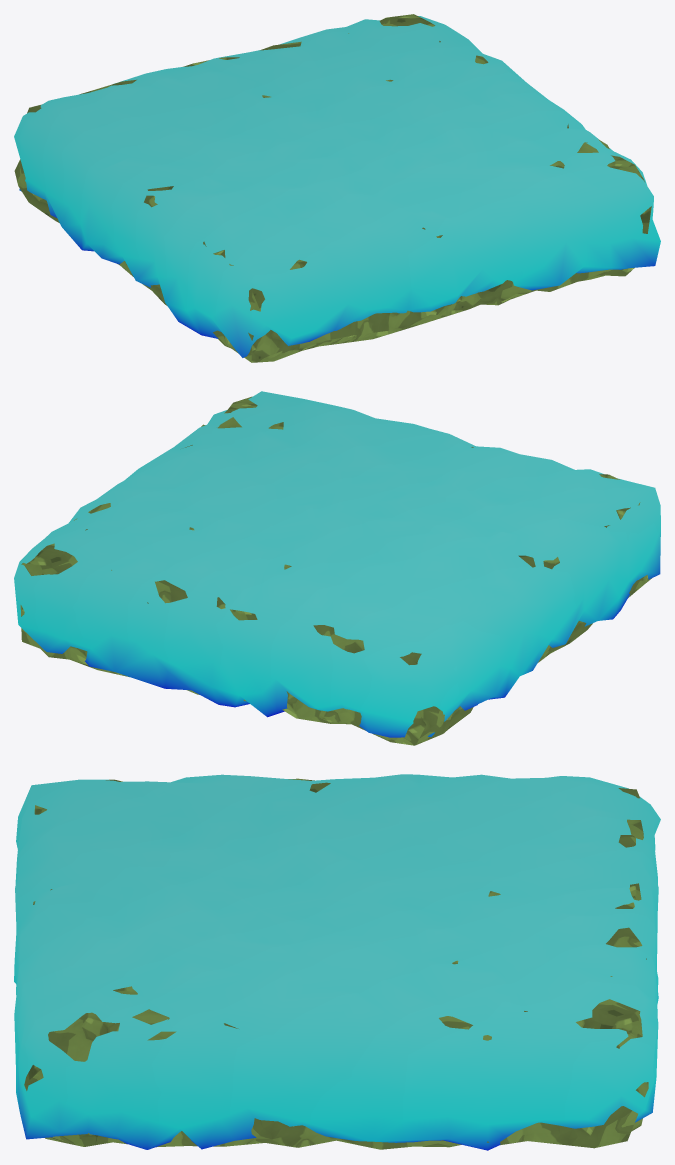
File: SM_Env_Hedge_03.fbx
The picture shows the model from 3 angles, top to bottom: view 1: azimuth 30°, elevation 25°; view 2: azimuth 150°, elevation 25°; view 3: azimuth 270°, elevation 25°; orthographic projection. The views are drawn at different scales.
Visible parts, largest first — view 1: SM_Env_Hedge_03_LOD0; view 2: SM_Env_Hedge_03_LOD0; view 3: SM_Env_Hedge_03_LOD0.
Boxes of the visible parts, x1,y1,x2,y2 form: SM_Env_Hedge_03_LOD0: [14, 14, 660, 362]; SM_Env_Hedge_03_LOD0: [14, 391, 660, 745]; SM_Env_Hedge_03_LOD0: [14, 774, 660, 1150].
Size of what is drawn, in the model's own units: 271 by 64.42 by 271.
